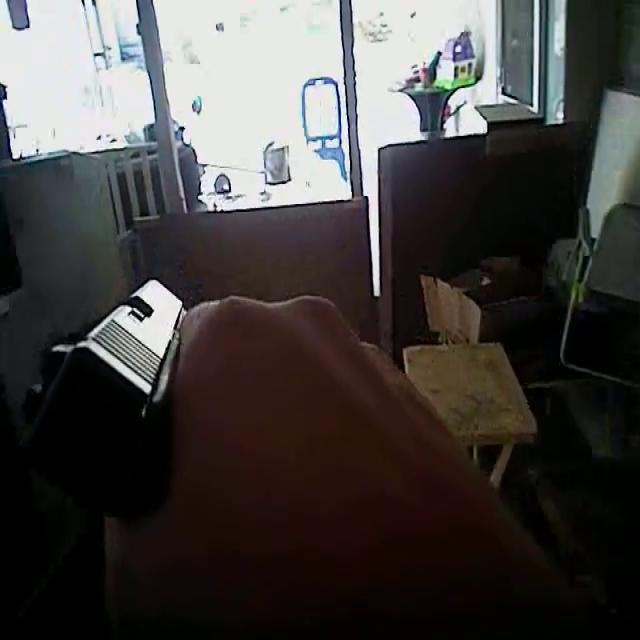gun: (11, 243, 253, 571)
